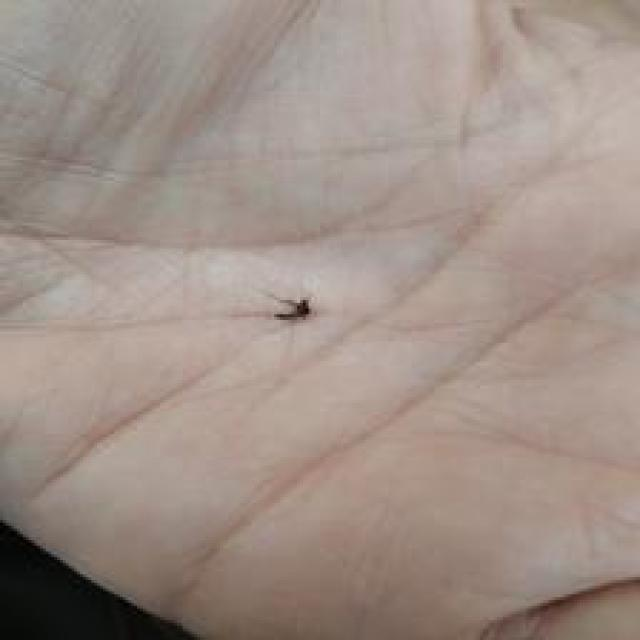Aedes albopictus: (269, 291, 314, 323)
